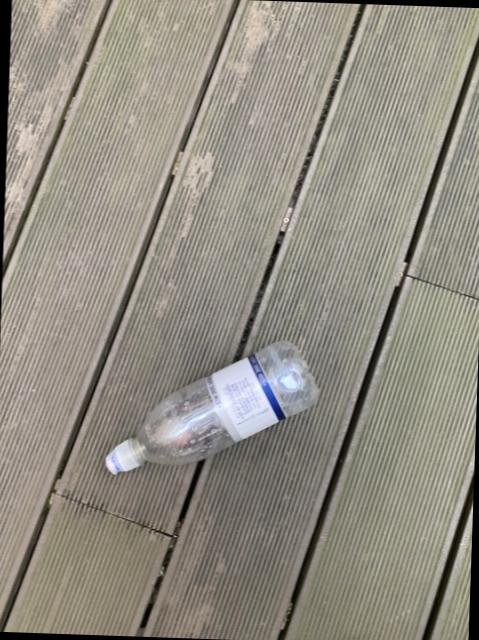plastic: (106, 340, 319, 472)
